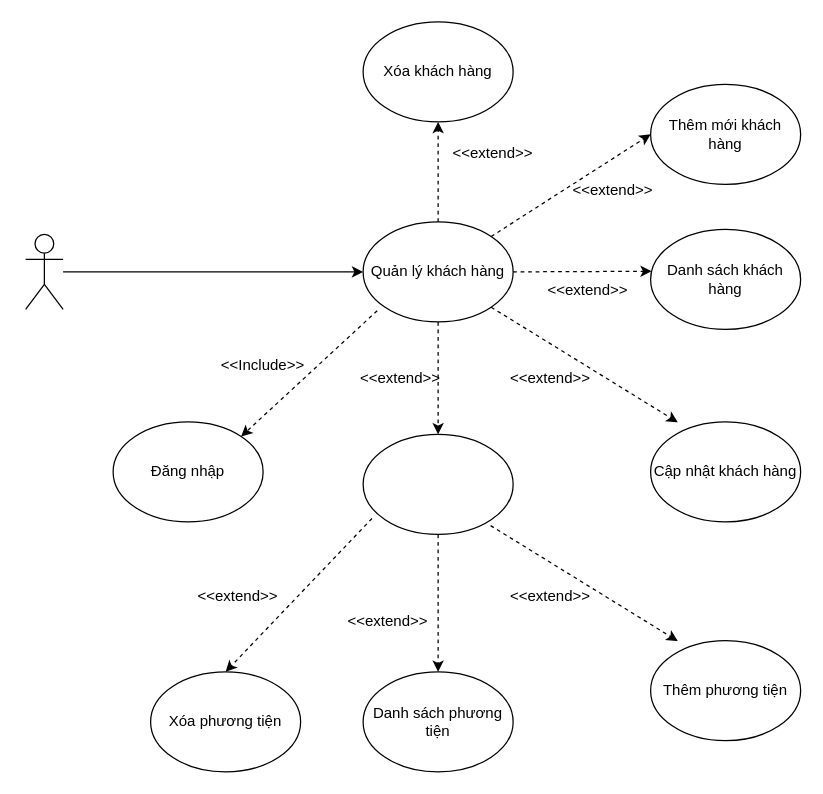
Some shapes in this 823 by 794 pixel diagram are drawn without their labels. Here are the shapes that lost their labels. From the top down, the box of each, then its label:
(24, 233, 63, 309): Chủ trọ
(362, 433, 513, 534): Quản lý phương tiện
